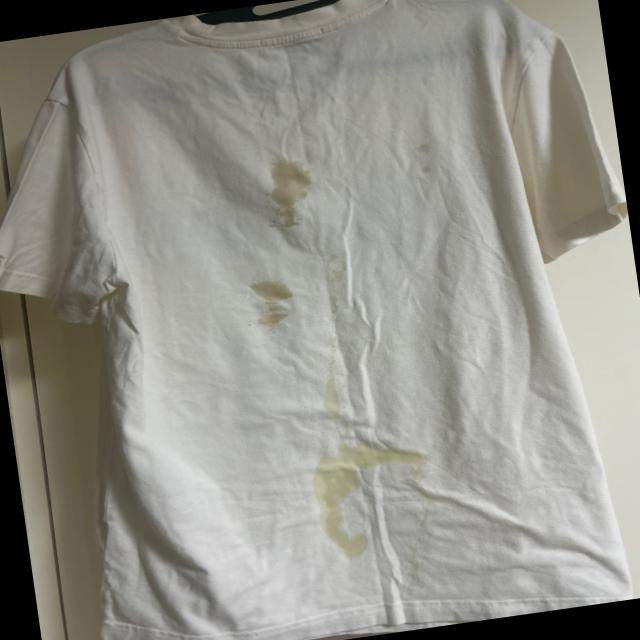stain: (303, 435, 427, 489), (318, 479, 386, 570), (264, 153, 316, 227), (309, 356, 362, 426), (249, 274, 308, 334), (402, 125, 447, 190)
